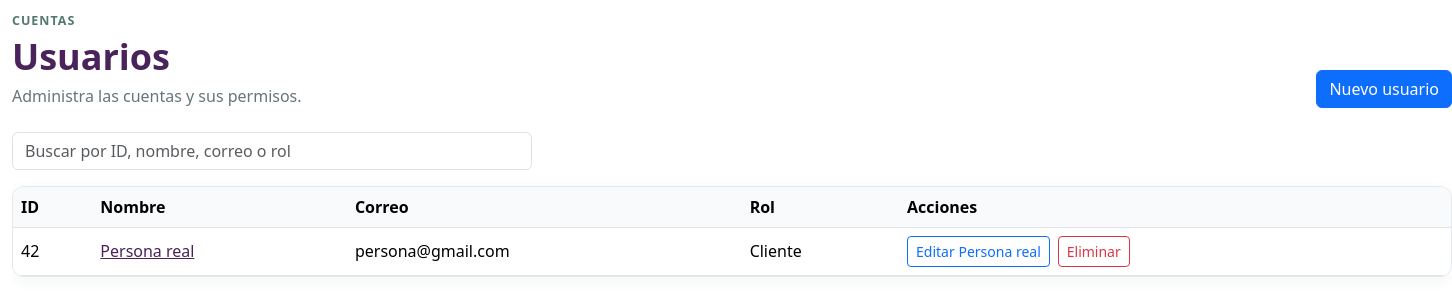
Perfiles reales › lista, busca y enlaza detalles sin asumir roles ni identidades de Auth
This screenshot has width=1452, height=294.
Expected: the text "persona@gmail.com" is shown, x1=347 y1=227 x2=742 y2=275
// Nota de lectura: Invoca la operación indicada con los argumentos de este bloque.
Type "inexistente" into the field named "Buscar usuarios" at point(272, 151), box x1=12 y1=132 x2=532 y2=170
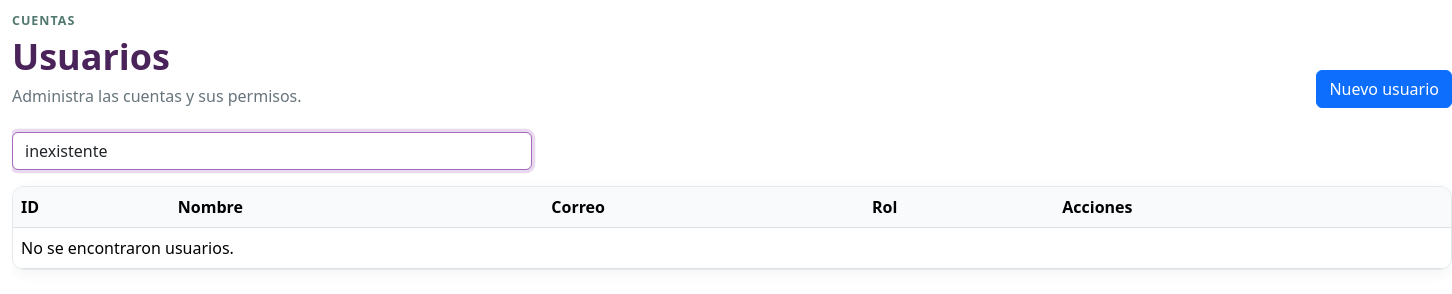
Expected: the text "No se encontraron usuarios." is shown, x1=13 y1=227 x2=1451 y2=268
